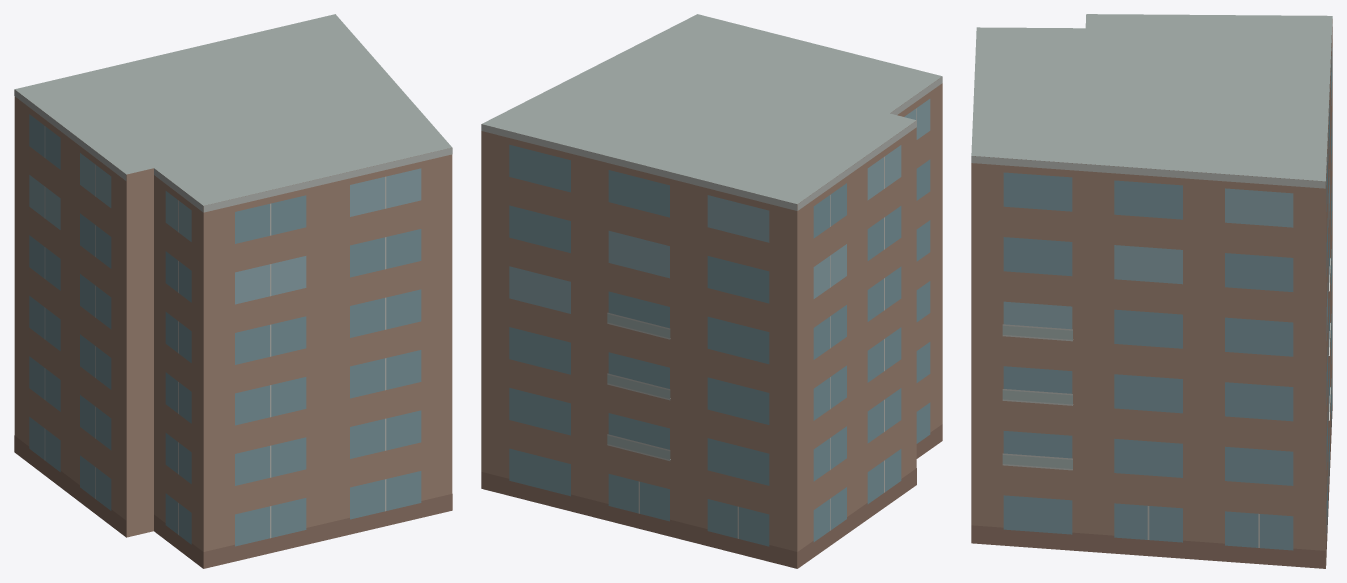
The model's file is survey-upis-32882586.glb.
The picture shows the model from 3 angles, left to right: view 1: azimuth 30°, elevation 25°; view 2: azimuth 150°, elevation 25°; view 3: azimuth 270°, elevation 25°; orthographic projection. The views are drawn at different scales.
Parts seen in each view (by area): view 1: survey-upis-32882586.tmp; view 2: survey-upis-32882586.tmp; view 3: survey-upis-32882586.tmp.
Part boxes in pixels (x1,y1,x2,y2): survey-upis-32882586.tmp: (14, 14, 452, 568); survey-upis-32882586.tmp: (481, 14, 942, 568); survey-upis-32882586.tmp: (971, 14, 1332, 568).
Size of the model in its own units: 12.05 by 13 by 11.
